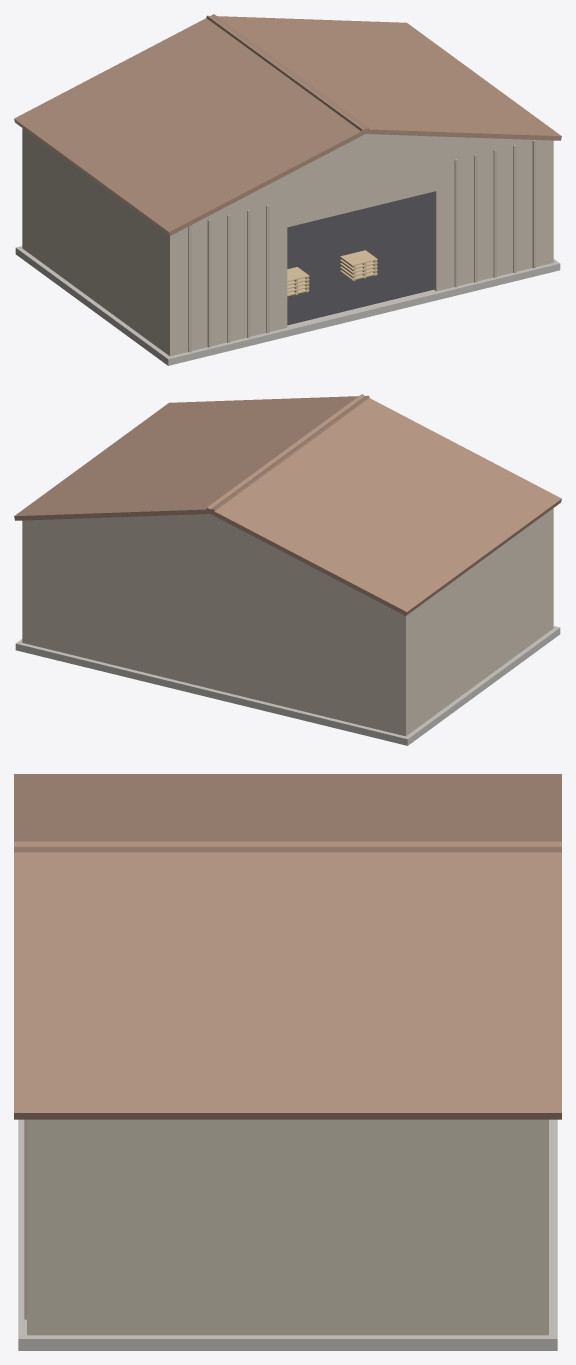
File: factory_warehouse.fbx
The picture shows the model from 3 angles, top to bottom: view 1: azimuth 30°, elevation 25°; view 2: azimuth 150°, elevation 25°; view 3: azimuth 270°, elevation 25°; orthographic projection. The views are drawn at different scales.
Parts seen in each view (by area): view 1: factory_warehouse; view 2: factory_warehouse; view 3: factory_warehouse.
Boxes of the visible parts, x1,y1,x2,y2 form: factory_warehouse: (14, 14, 561, 365); factory_warehouse: (14, 394, 561, 745); factory_warehouse: (14, 774, 561, 1350).
Bounding box in the file's own units: 18.44 × 8.55 × 12.6.
